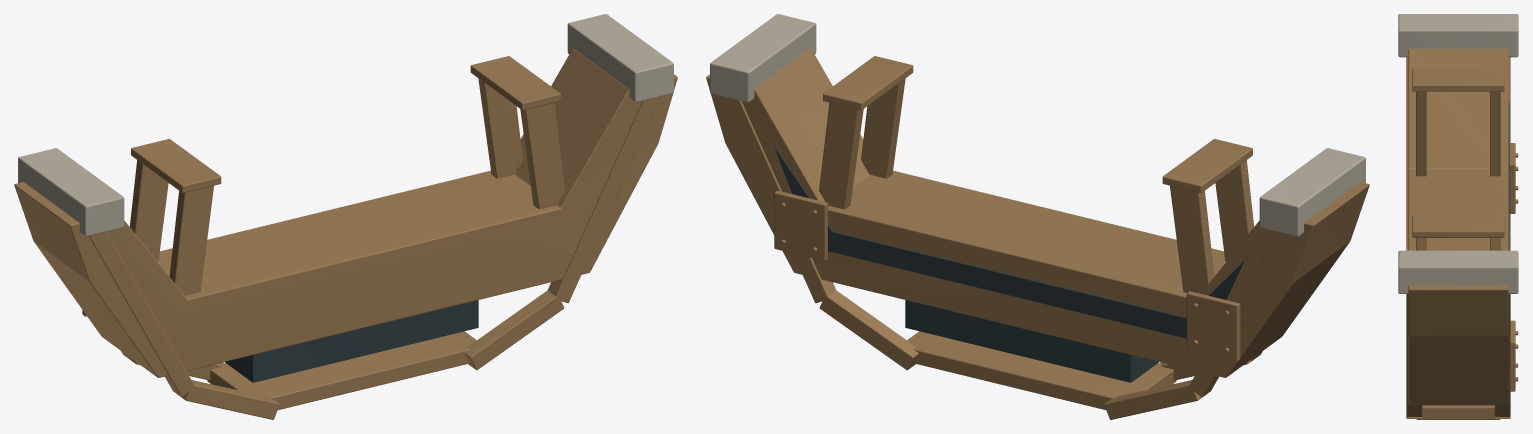
The model's file is terrace-saddle.glb.
3 views of the same model, side by side, from view 1: azimuth 30°, elevation 25°; view 2: azimuth 150°, elevation 25°; view 3: azimuth 270°, elevation 25° (orthographic). The views are drawn at different scales.
Parts seen in each view (by area): view 1: terrace-saddle / bronze, terrace-saddle / stone, terrace-saddle / recess; view 2: terrace-saddle / bronze, terrace-saddle / recess, terrace-saddle / stone; view 3: terrace-saddle / bronze, terrace-saddle / stone, terrace-saddle / recess.
Boxes of the visible parts, box(x1,y1,x2,y2) form: terrace-saddle / bronze: box(14, 48, 677, 419); terrace-saddle / stone: box(18, 14, 673, 236); terrace-saddle / recess: box(225, 300, 478, 382); terrace-saddle / bronze: box(706, 48, 1369, 419); terrace-saddle / recess: box(774, 145, 1244, 382); terrace-saddle / stone: box(710, 14, 1365, 236); terrace-saddle / bronze: box(1406, 48, 1518, 419); terrace-saddle / stone: box(1398, 14, 1518, 293); terrace-saddle / recess: box(1508, 103, 1509, 250).
Bounding box in the file's own units: 61.94 × 25.7 × 12.
